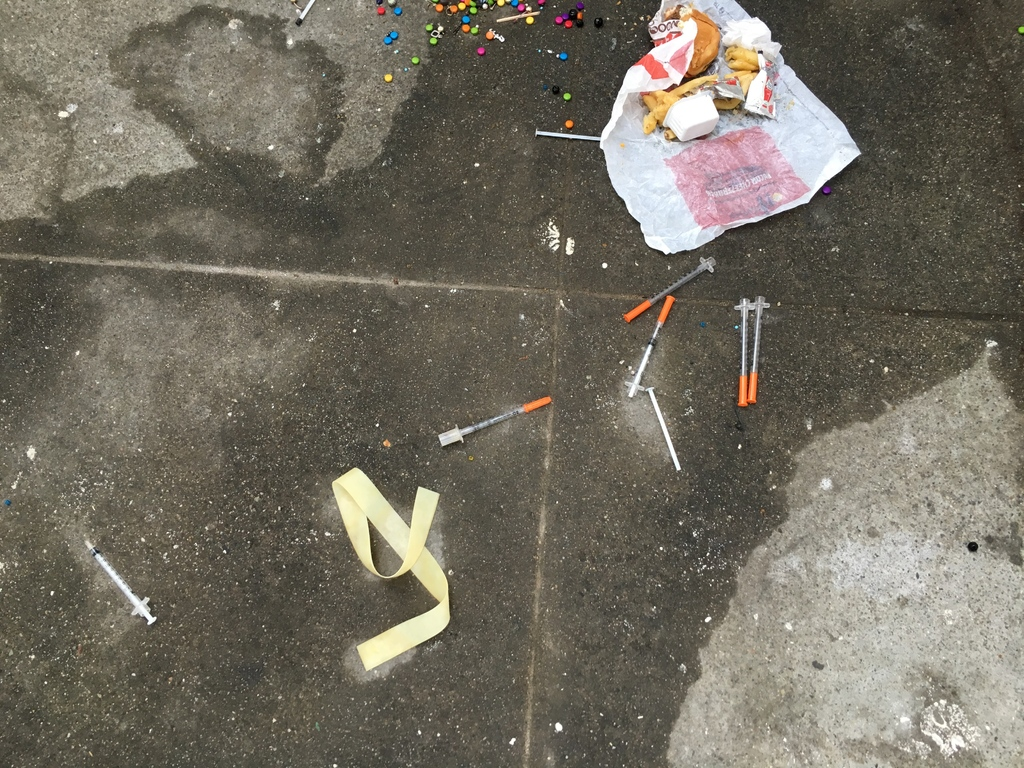French fries: (638, 74, 714, 141), (718, 43, 754, 106)
